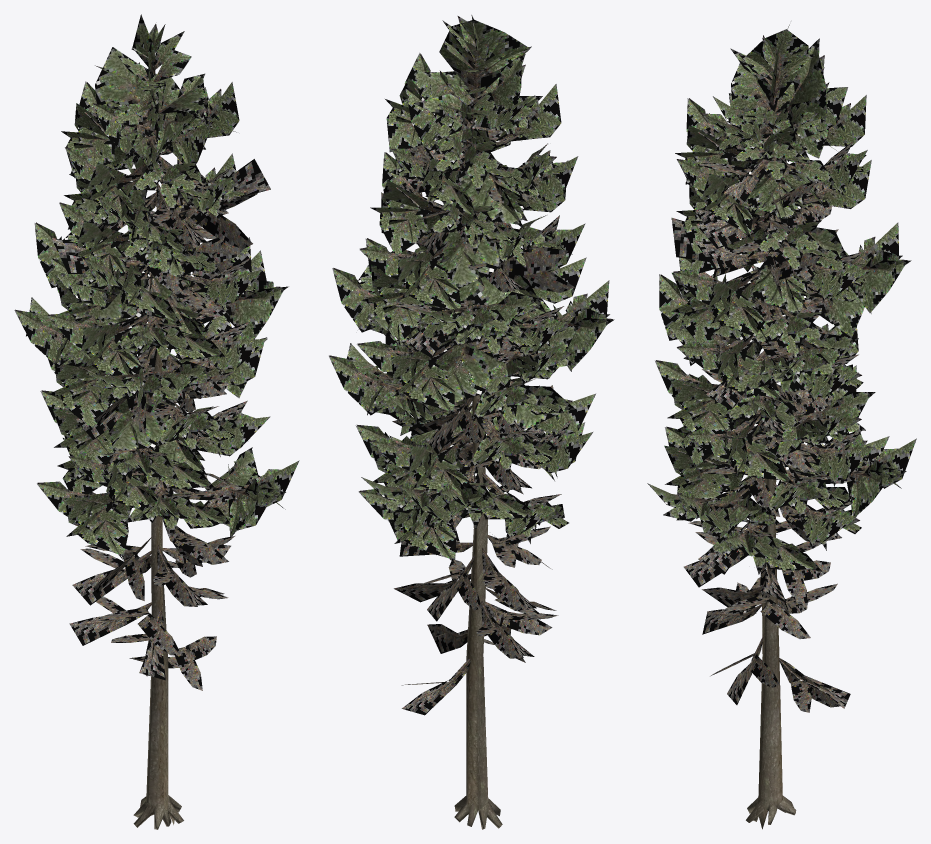
Rendered from tundra-fir-a-close.glb.
3 renders of one model, left to right at view 1: azimuth 30°, elevation 25°; view 2: azimuth 150°, elevation 25°; view 3: azimuth 270°, elevation 25°, orthographic. The views are drawn at different scales.
Visible parts, largest first — view 1: douglas_fir_a_LOD0; view 2: douglas_fir_a_LOD0; view 3: douglas_fir_a_LOD0.
Part boxes in pixels (x1=…): douglas_fir_a_LOD0: x1=14, y1=14, x2=299, y2=829; douglas_fir_a_LOD0: x1=329, y1=15, x2=614, y2=829; douglas_fir_a_LOD0: x1=647, y1=24, x2=916, y2=829.
Bounding box in the file's own units: 12.76 × 41.54 × 12.77.
Materials: 1 (1 with a texture image).
